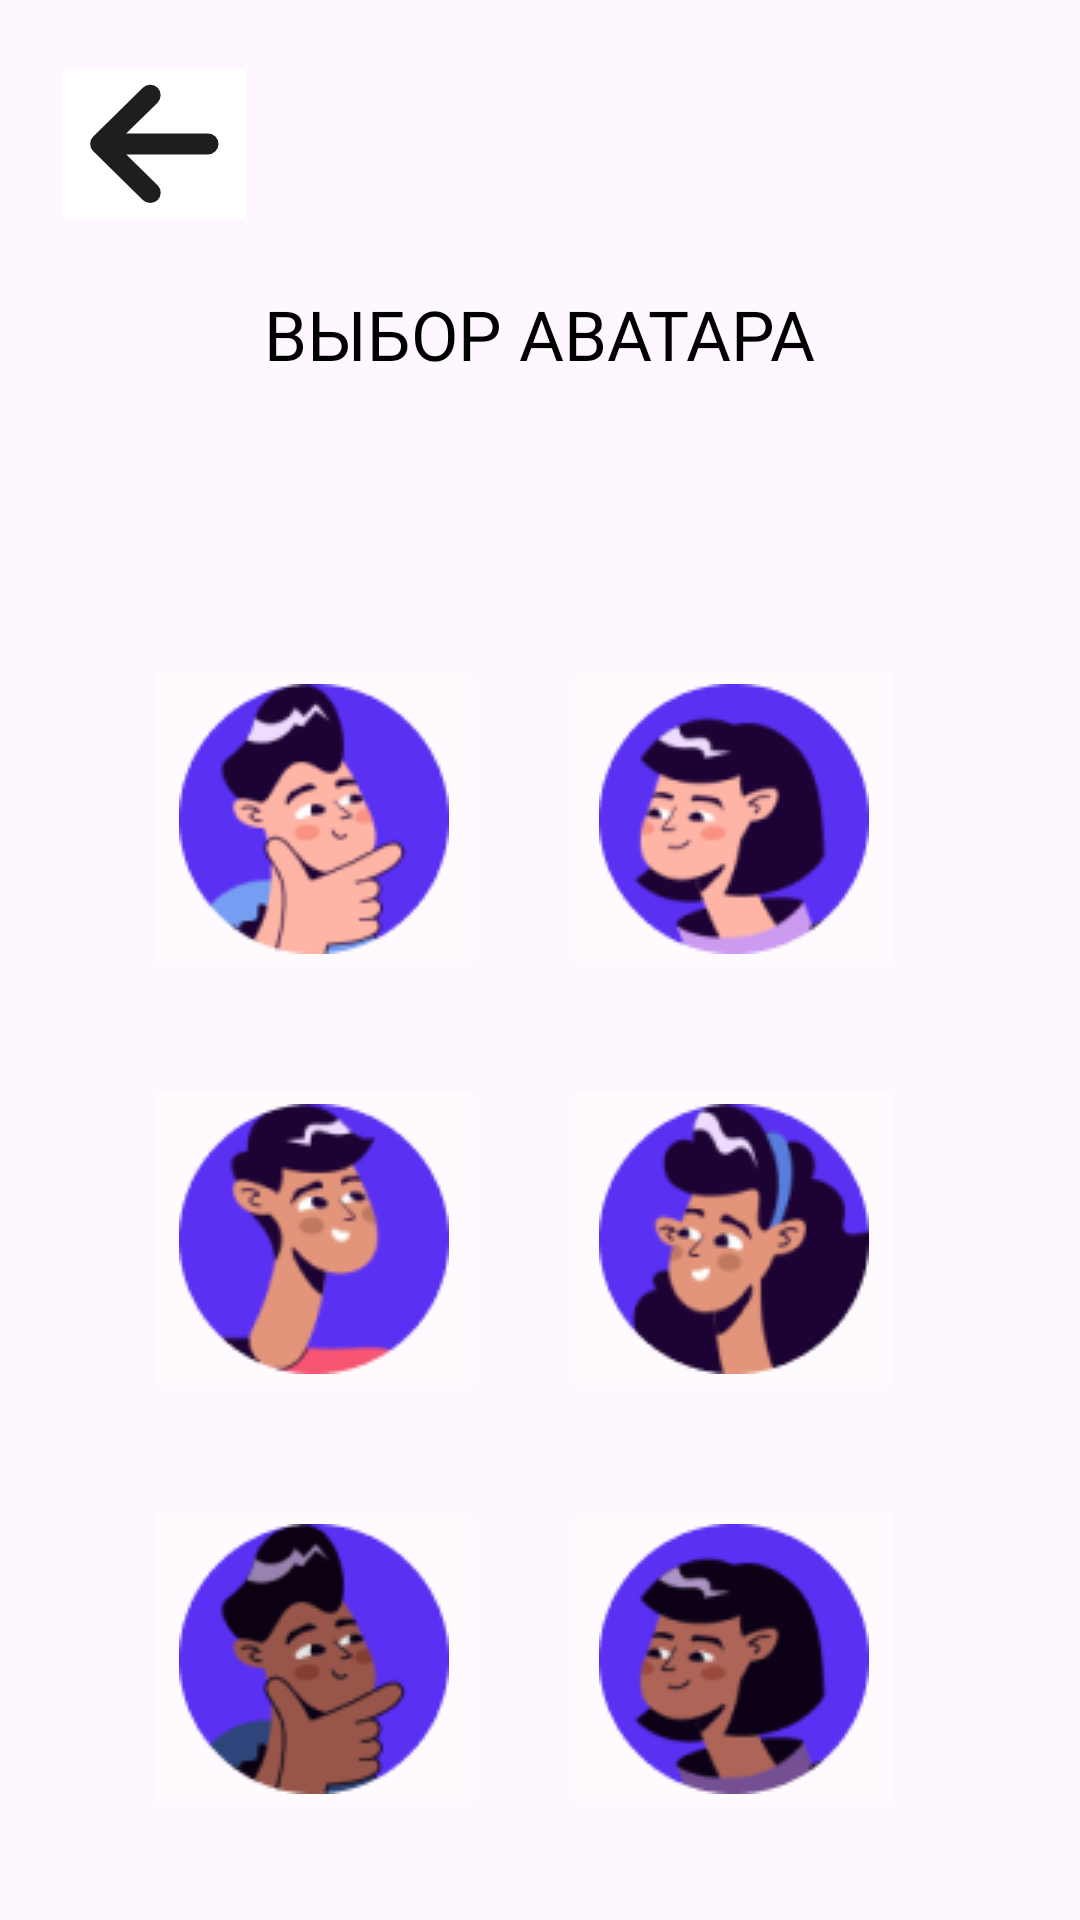

Icon bounding boxes for this 1080px x 1920px phone screenshot, format [x1, y1, x2, y2]:
ion arrow back: [90, 84, 219, 203]
